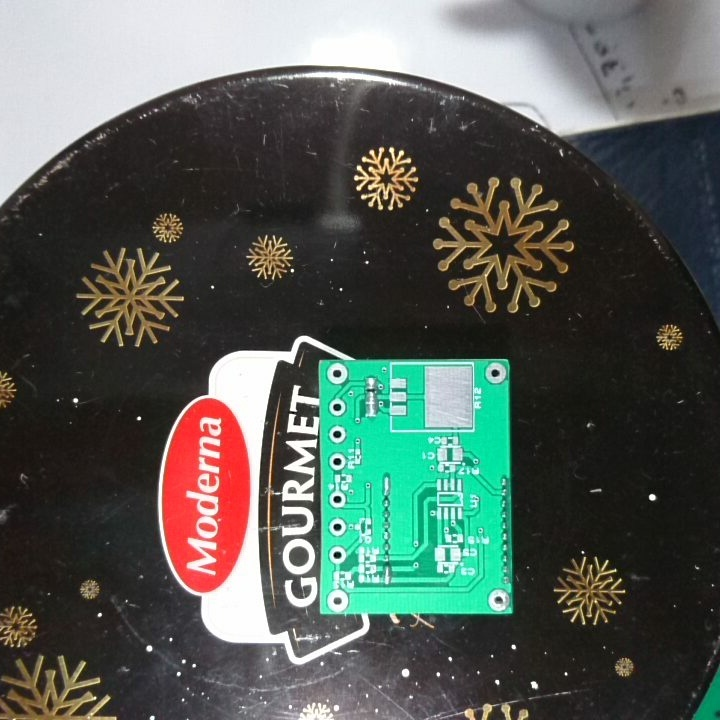F: (482, 360, 508, 386), (325, 588, 352, 613), (485, 587, 511, 612), (325, 361, 349, 386), (326, 544, 348, 568), (325, 489, 348, 511), (325, 515, 348, 537), (327, 395, 348, 419), (327, 423, 348, 446), (325, 451, 346, 473)
P: (363, 389, 379, 420), (380, 472, 393, 498), (382, 563, 392, 585)
